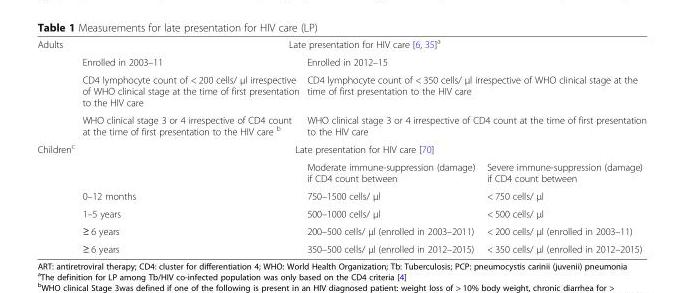table: (36, 36, 645, 254)
table column: (77, 36, 302, 254), (302, 36, 480, 254), (480, 36, 645, 254), (36, 36, 77, 254)
table row: (36, 69, 645, 110), (36, 110, 645, 139), (36, 157, 645, 186), (36, 139, 645, 157), (36, 186, 645, 204), (36, 221, 645, 239), (36, 52, 645, 69), (36, 204, 645, 221), (36, 36, 645, 52), (36, 239, 645, 254)
table spanning cell: (302, 69, 645, 110), (77, 139, 645, 157), (302, 110, 645, 139), (77, 36, 645, 52), (302, 52, 645, 69), (36, 139, 77, 254), (36, 36, 77, 139)
